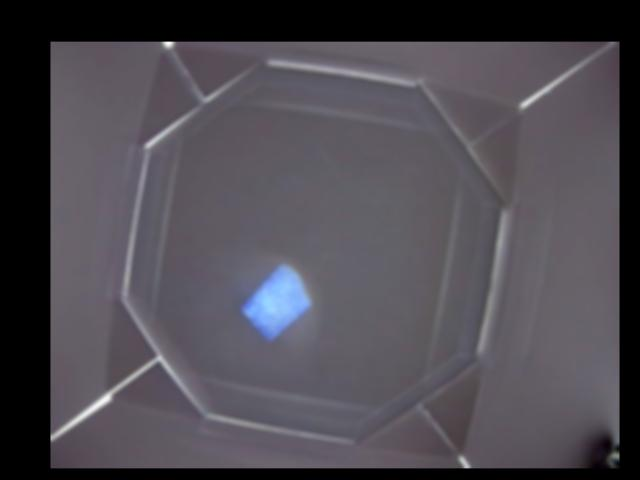Potato: (238, 263, 310, 338)
